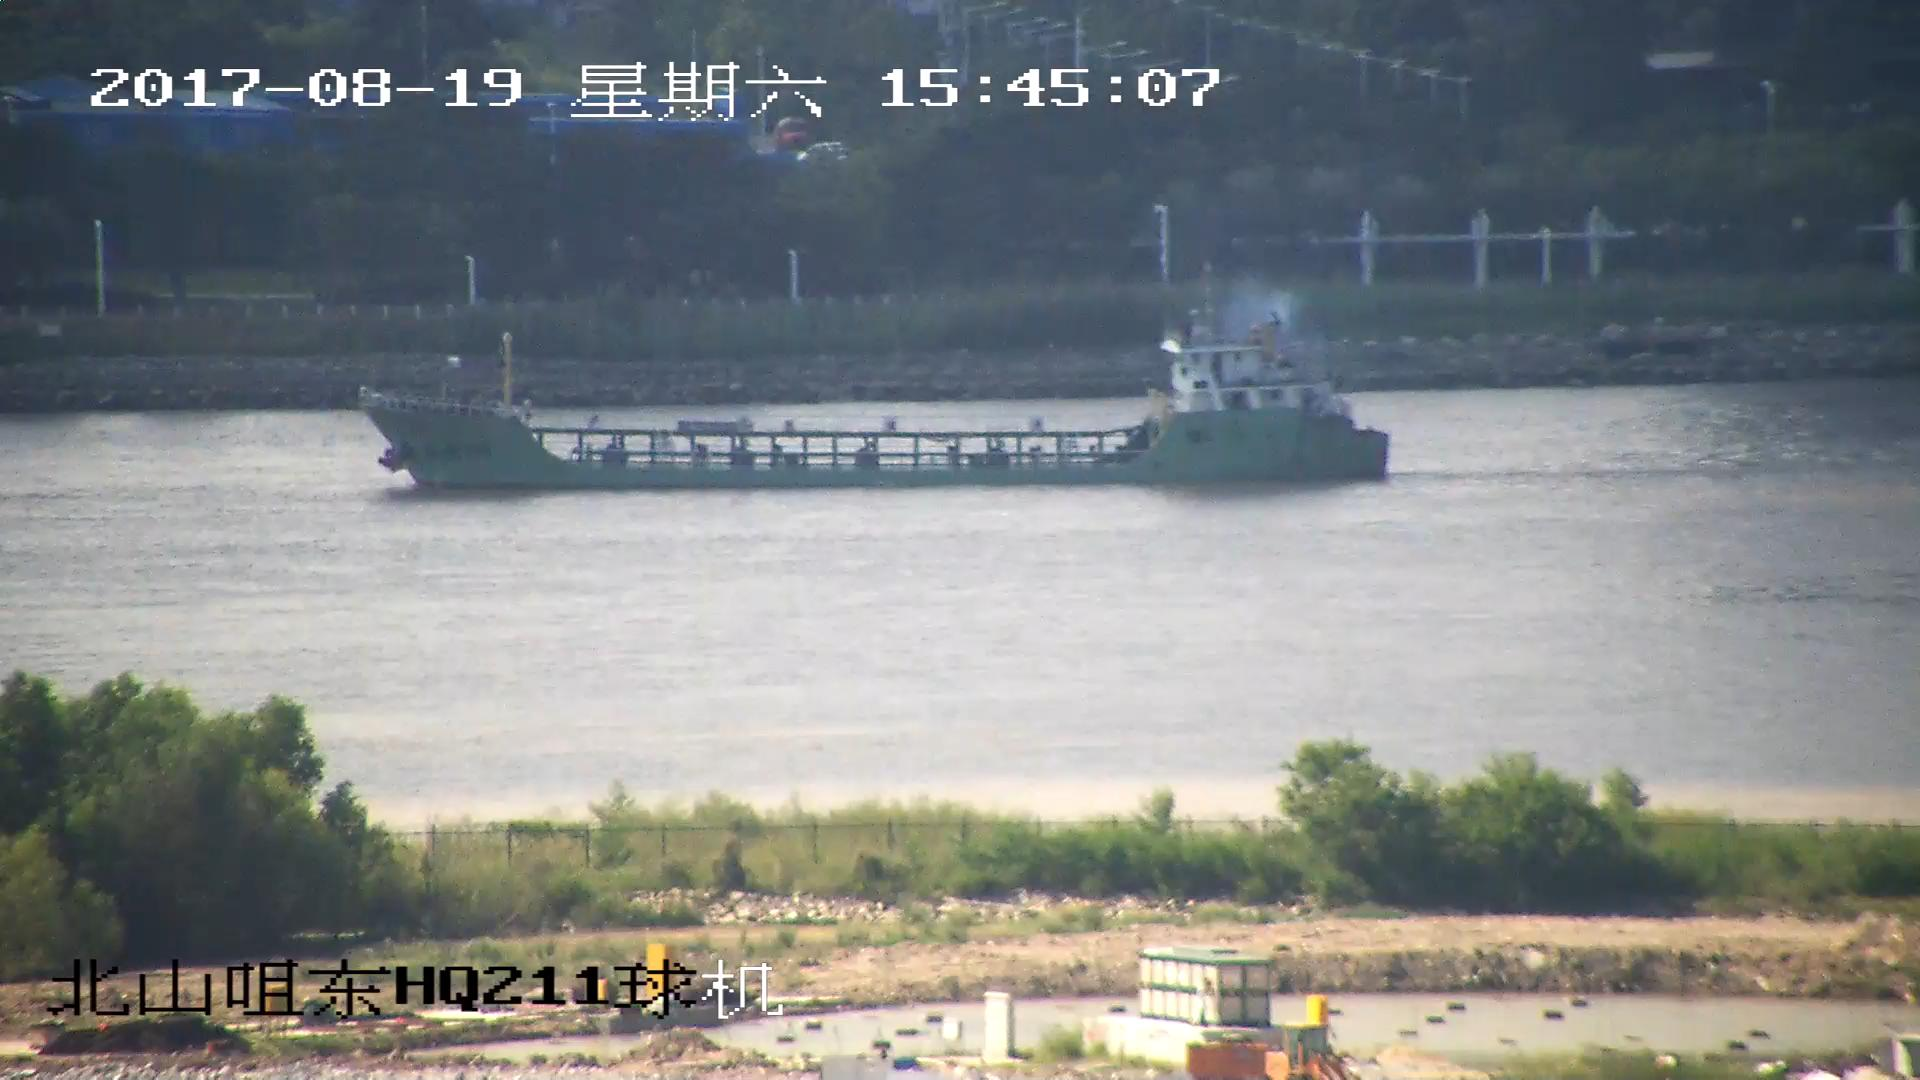general cargo ship: (370, 265, 1393, 483)
